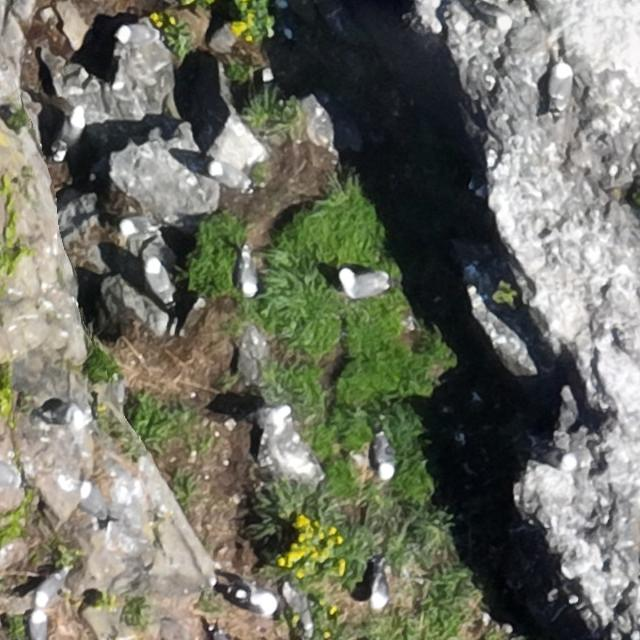umineko: (224, 574, 285, 618), (55, 106, 86, 156), (42, 402, 92, 432), (209, 164, 250, 187), (81, 485, 107, 520), (346, 273, 387, 295), (534, 448, 576, 468), (550, 66, 570, 107), (374, 437, 394, 478), (238, 256, 258, 296), (476, 6, 511, 28), (146, 260, 166, 298), (37, 575, 62, 605), (370, 574, 389, 608), (1, 464, 22, 488), (121, 217, 148, 235), (29, 613, 46, 639), (213, 628, 239, 639)
